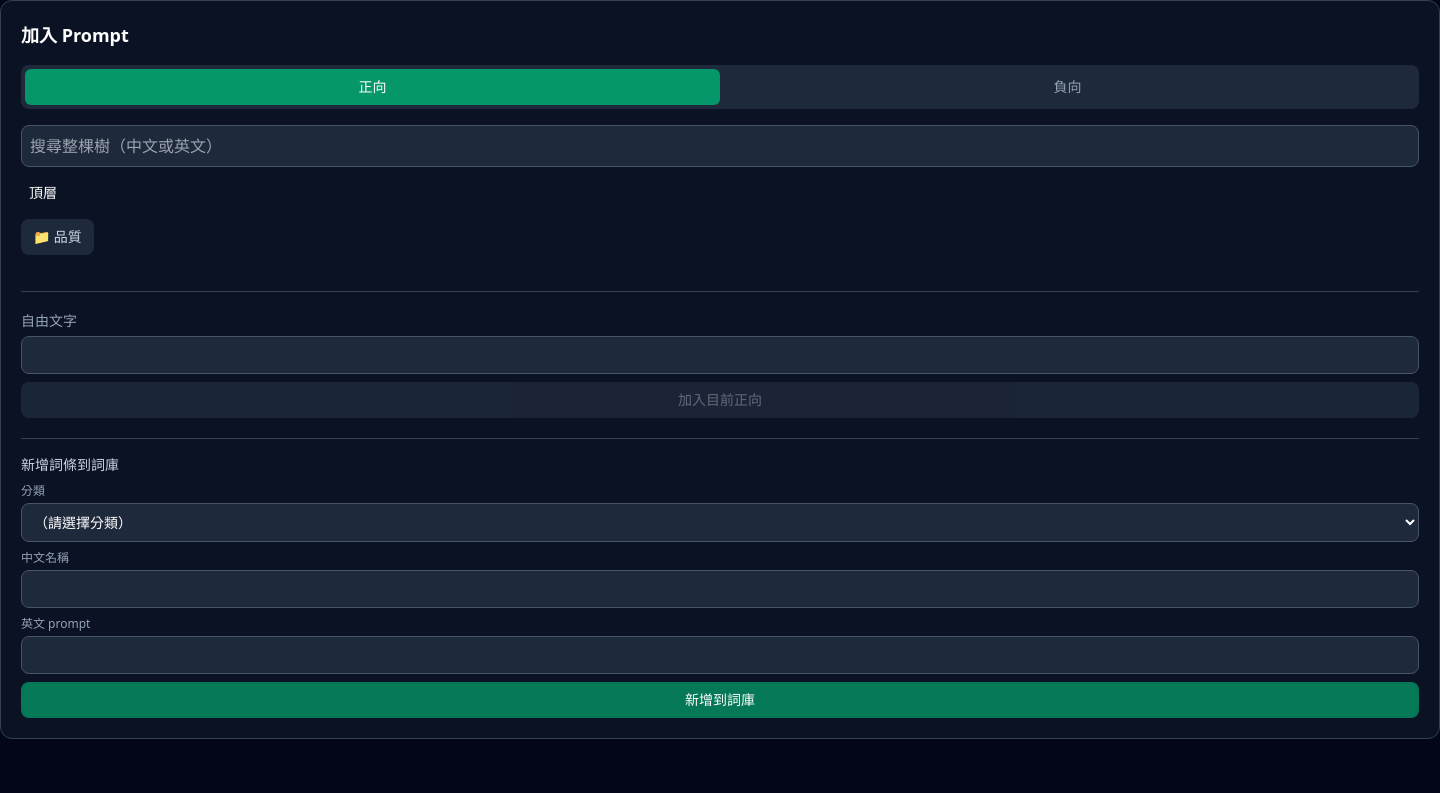
it: PromptEntryBrowser read-only source catalog › resets to the first page when switching from category browsing to a search
Click the button "📁 品質" at (57, 237), box [21, 219, 94, 255]
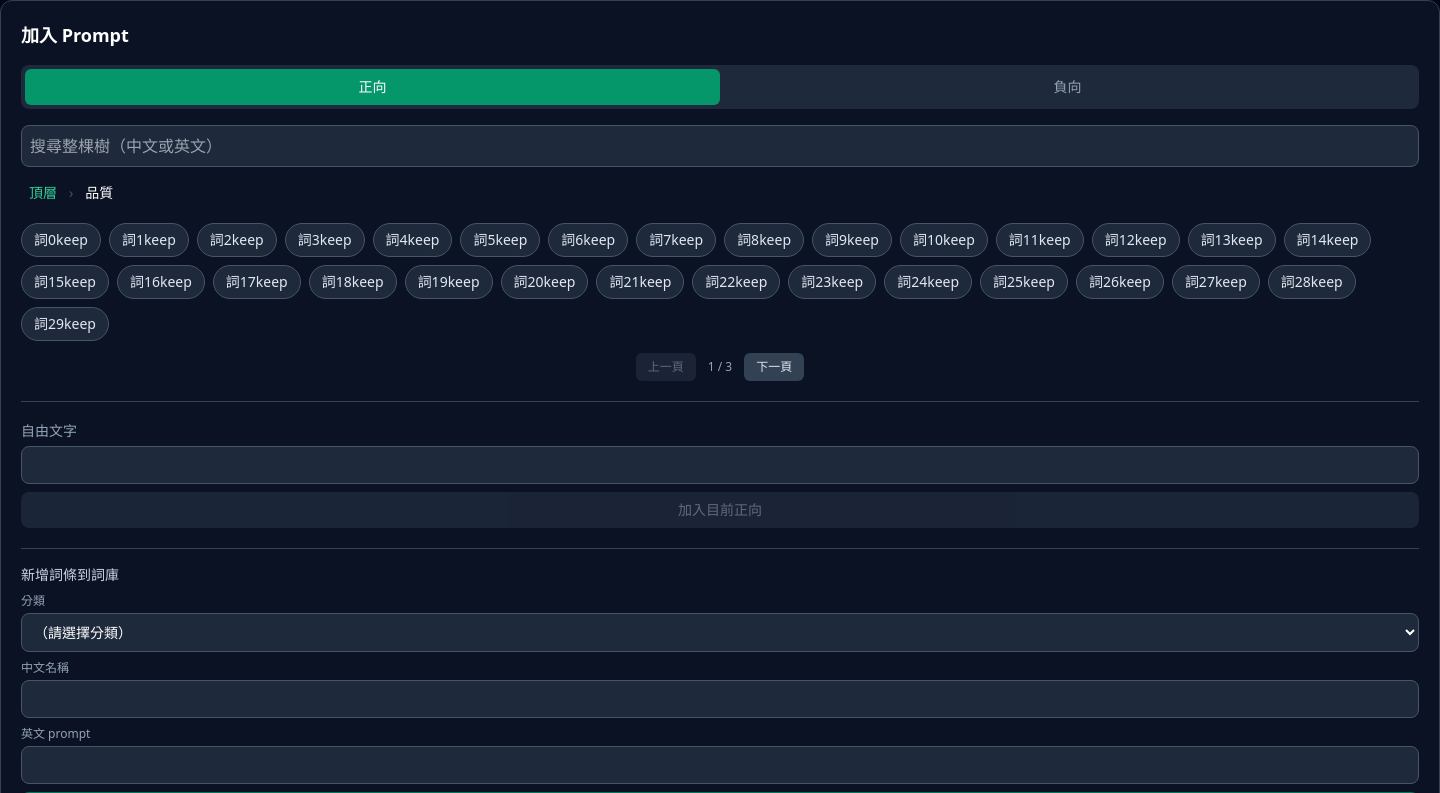
Click the button labelled "下一頁" at (774, 367), box [744, 353, 804, 381]
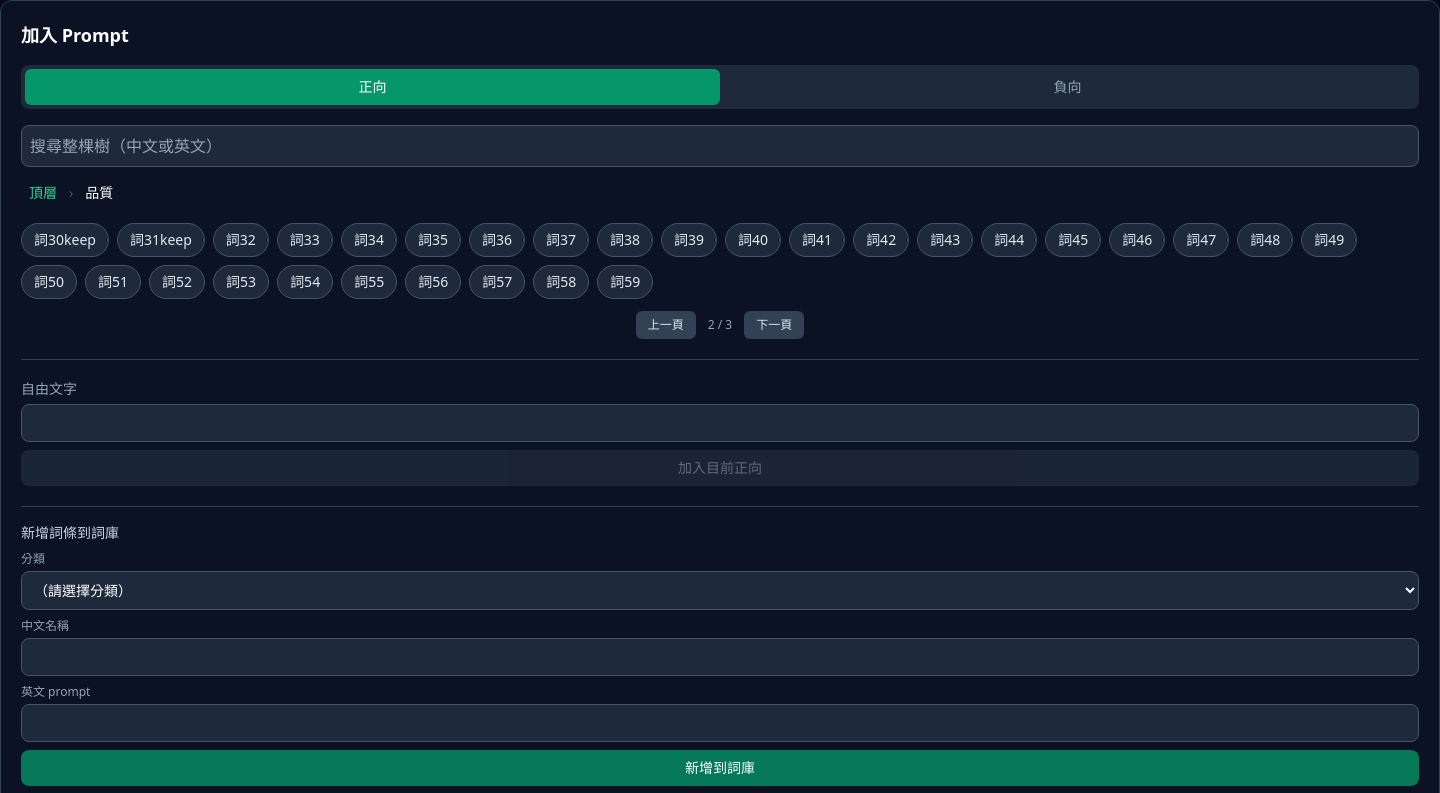
Check: the text "2 / 3" is shown, box [708, 317, 732, 333]
Type "keep" into the field named "搜尋提示詞" at (720, 146), box [21, 125, 1419, 167]
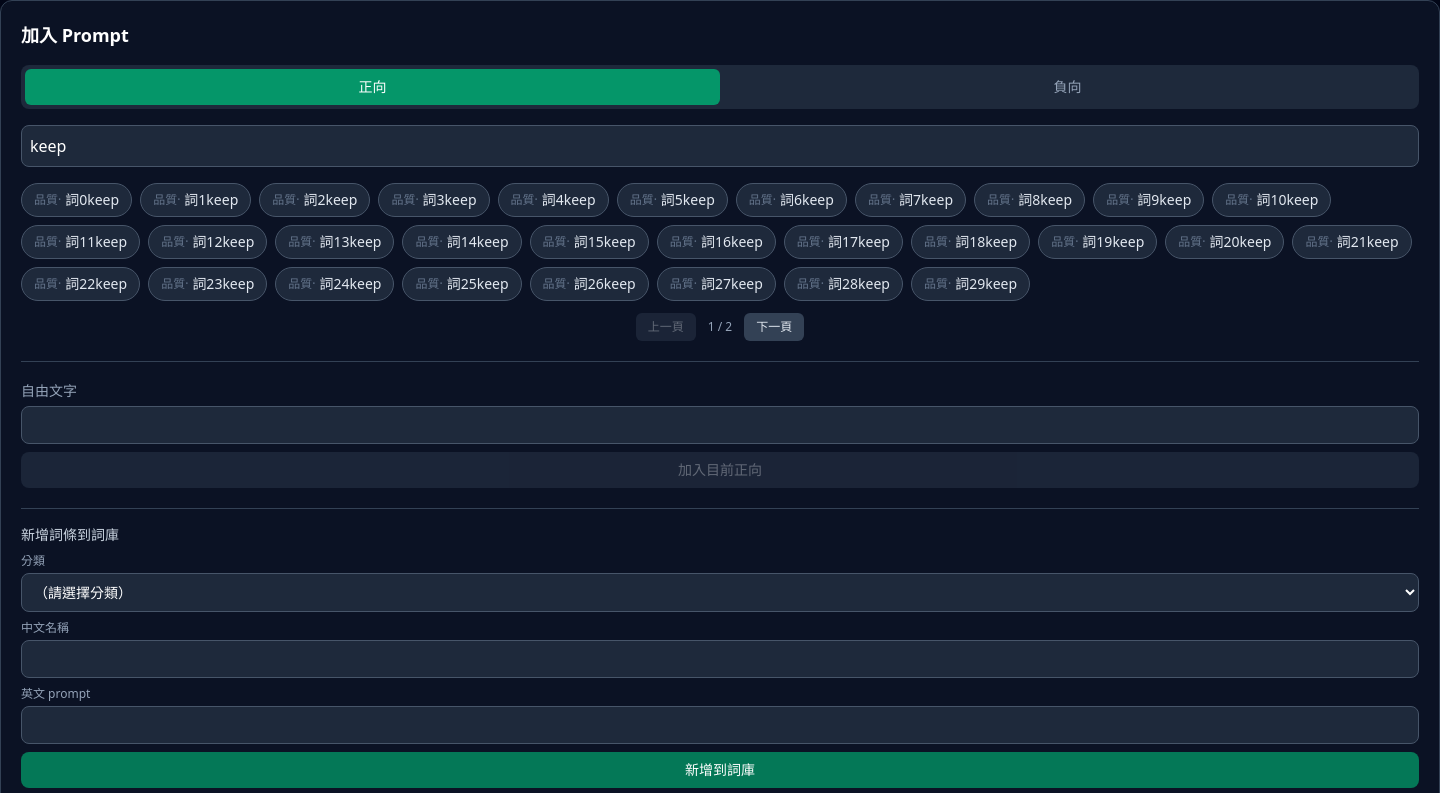
Check: the text "1 / 2" is shown, box [708, 319, 732, 335]
